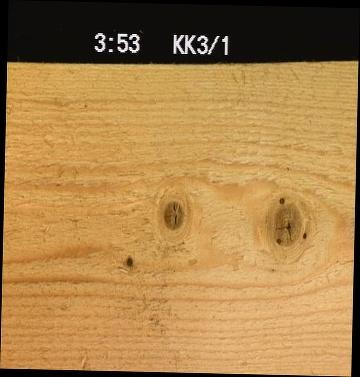dry_knot: (123, 253, 134, 268)
sound_knot: (269, 194, 307, 246), (160, 197, 184, 231)
